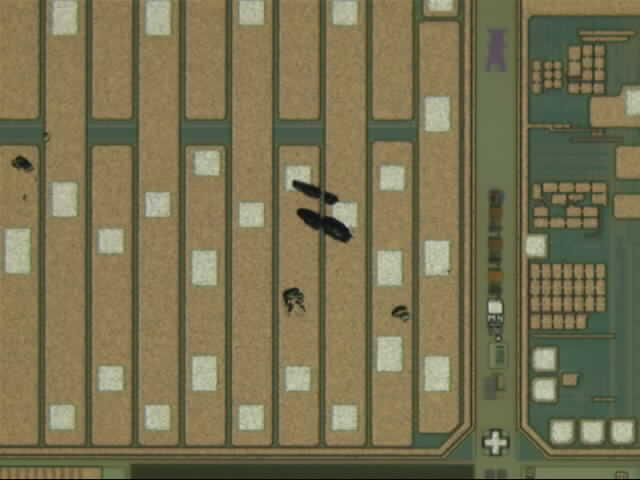SCRATCH: (7, 150, 363, 321)
